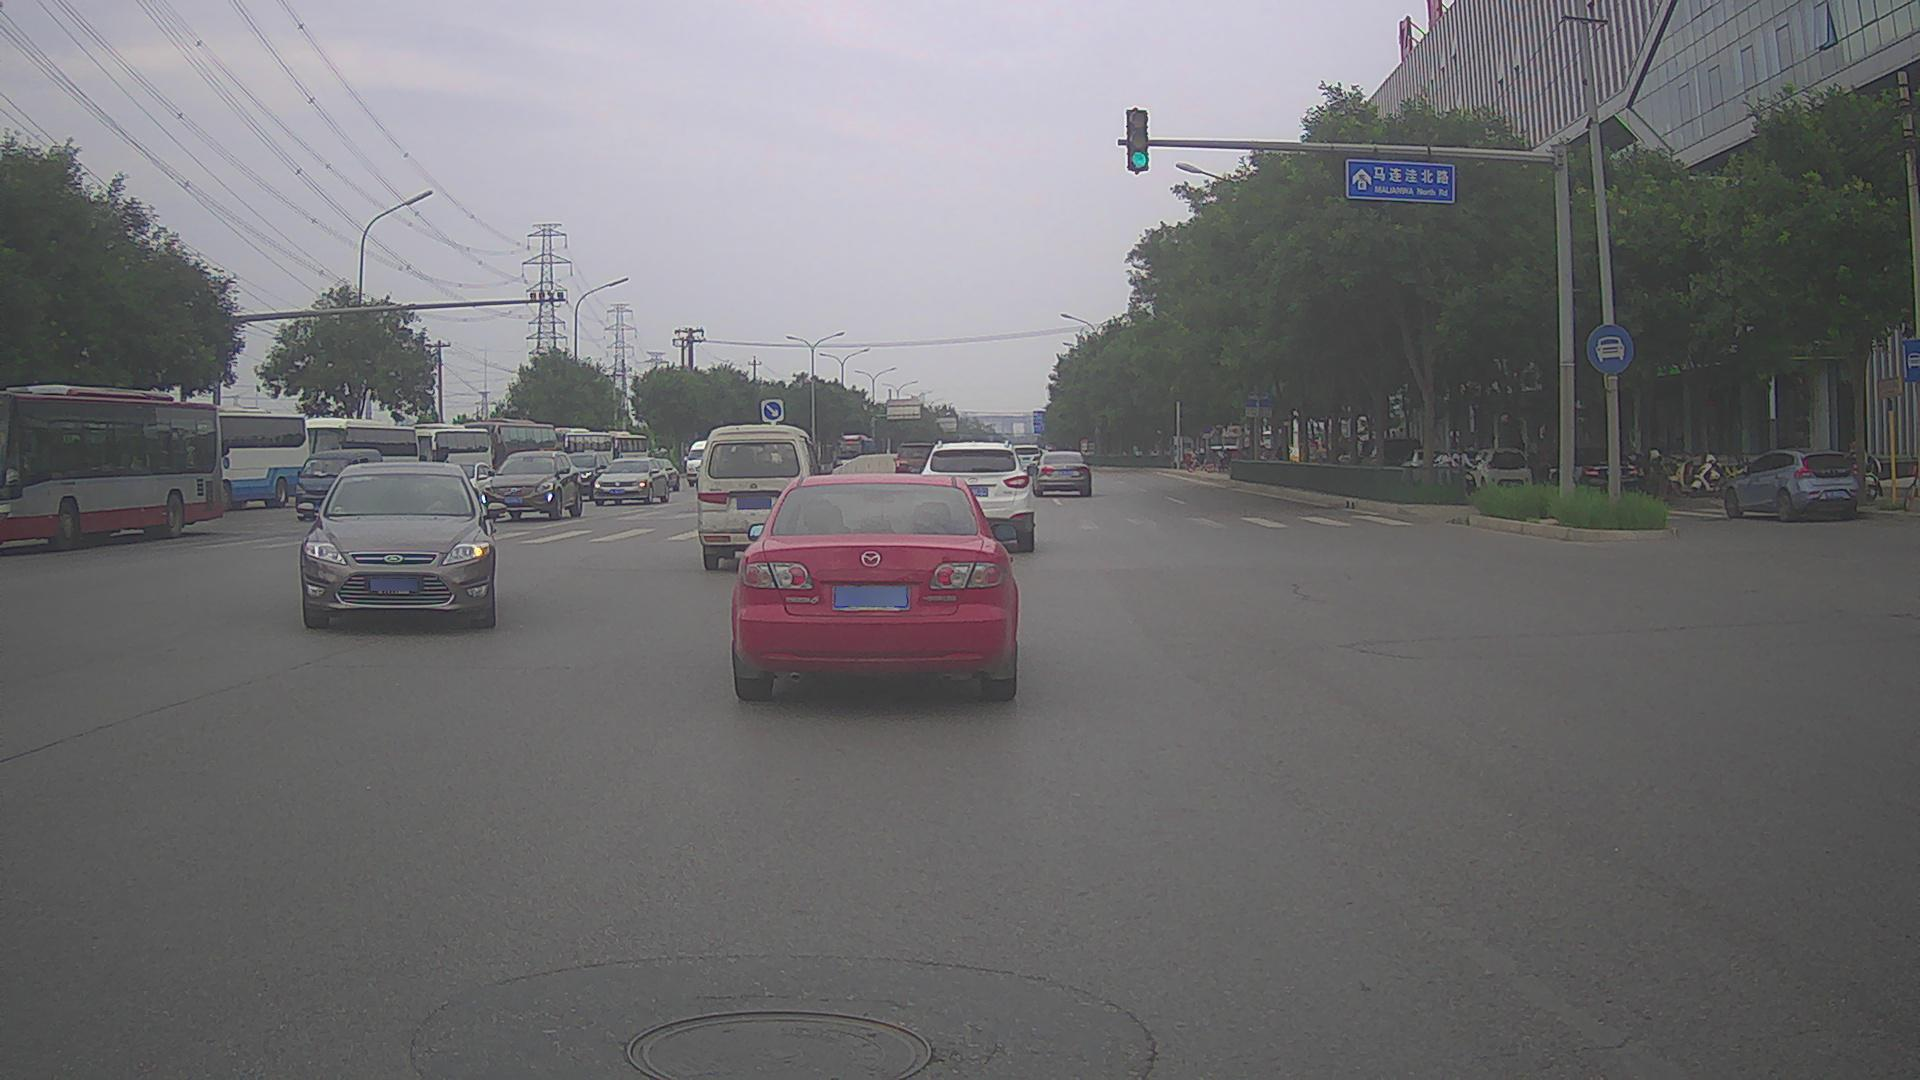bus: (3, 383, 224, 550), (143, 404, 309, 509), (286, 418, 420, 496), (453, 418, 556, 485), (391, 423, 491, 487), (525, 427, 613, 475), (590, 430, 647, 472)
car: (732, 475, 1018, 700), (294, 462, 497, 629), (923, 440, 1039, 550), (1721, 447, 1857, 521), (481, 450, 582, 520), (1543, 446, 1638, 502), (593, 457, 670, 504), (1466, 446, 1532, 495), (434, 461, 496, 510), (1029, 450, 1093, 496), (559, 453, 614, 501), (1427, 450, 1482, 492), (1398, 447, 1446, 486), (635, 458, 680, 492), (1009, 444, 1040, 473)
ignore: (1079, 438, 1096, 455)
pedestrian: (1451, 444, 1473, 496), (1397, 425, 1404, 453), (1189, 448, 1198, 470), (1390, 429, 1397, 450), (1369, 431, 1375, 450)
van: (698, 424, 831, 570), (295, 447, 383, 520), (682, 439, 730, 486), (894, 441, 938, 484)
